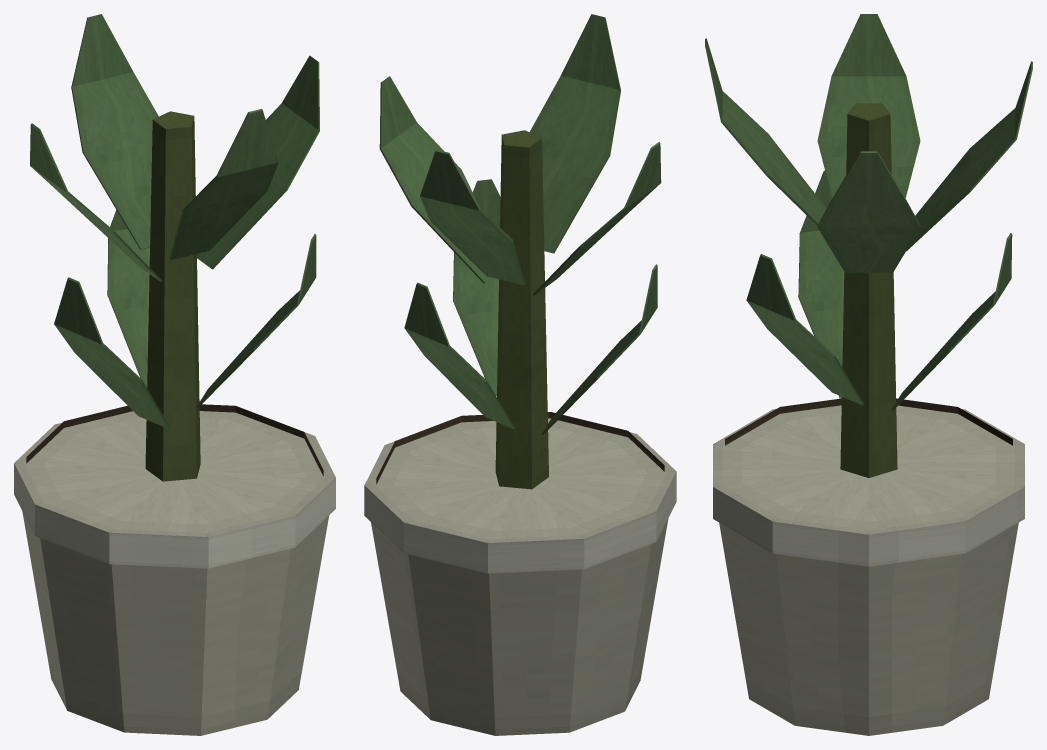
The model's file is plant_table.glb.
3 views of the same model, side by side, from view 1: azimuth 30°, elevation 25°; view 2: azimuth 150°, elevation 25°; view 3: azimuth 270°, elevation 25° (orthographic). The views are drawn at different scales.
Visible parts, largest first — view 1: home_plant_table; view 2: home_plant_table; view 3: home_plant_table.
Boxes of the visible parts, x1,y1,x2,y2 form: home_plant_table: [14, 14, 335, 735]; home_plant_table: [364, 14, 676, 735]; home_plant_table: [705, 14, 1032, 735].
Bounding box in the file's own units: 0.13 × 0.2805 × 0.13.
Materials: 1 (1 with a texture image).
